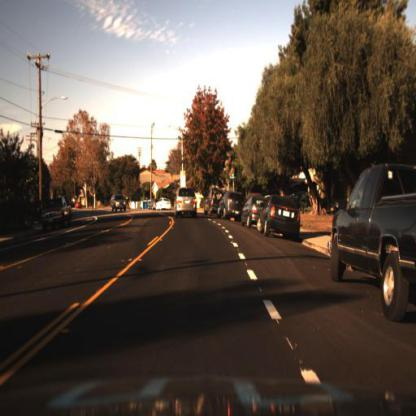car: (328, 161, 416, 325), (256, 197, 303, 240), (40, 197, 74, 231), (218, 193, 246, 219), (177, 188, 200, 219), (111, 193, 128, 219), (155, 196, 172, 212), (146, 200, 157, 213)
